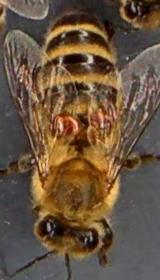varroa_mite: (51, 107, 81, 136), (84, 107, 118, 131)
